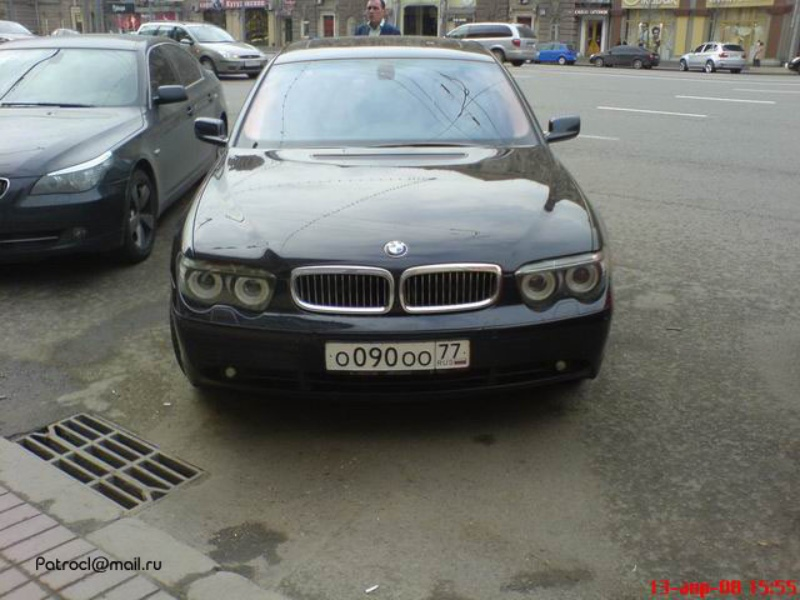car: (168, 34, 615, 405), (1, 37, 228, 272), (138, 21, 267, 80), (440, 23, 538, 66), (680, 42, 746, 72), (590, 44, 659, 70), (540, 43, 574, 65)
person: (354, 1, 401, 37)
plate: (325, 341, 469, 370)
